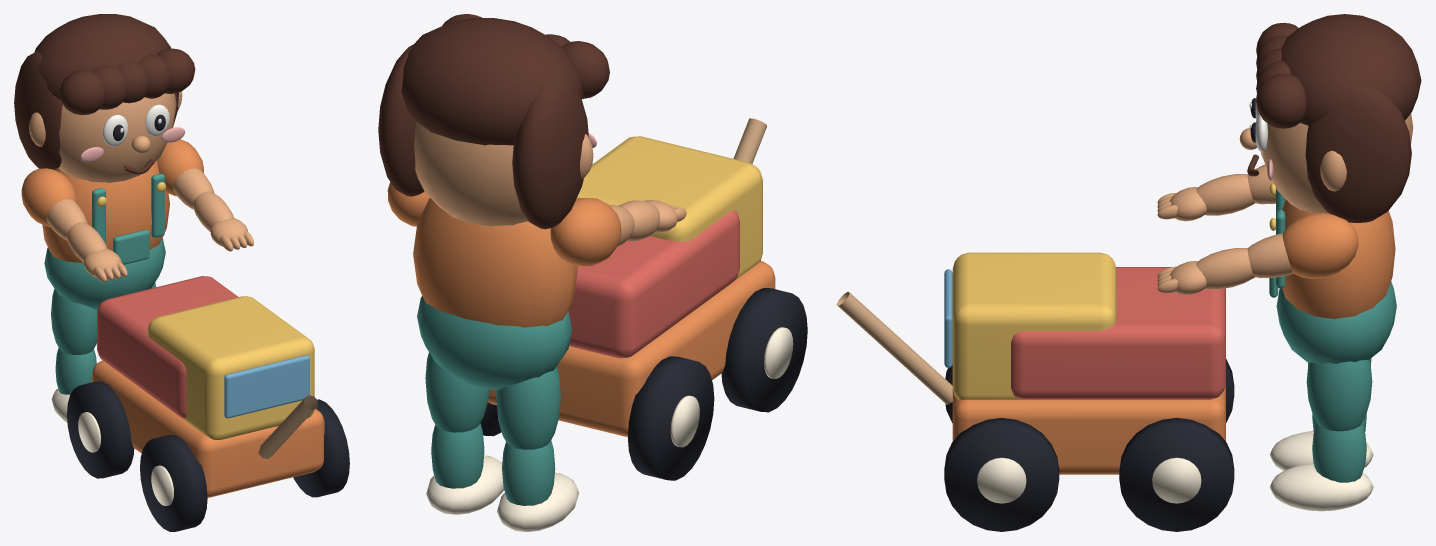
File: ava-push.glb
The picture shows the model from 3 angles, left to right: view 1: azimuth 30°, elevation 25°; view 2: azimuth 150°, elevation 25°; view 3: azimuth 270°, elevation 25°; orthographic projection. The views are drawn at different scales.
Parts seen in each view (by area): view 1: cabin, vehicle body, wagon cargo, hair cap, clay head, soft shirt, rubber wheel, rubber wheel.001, windshield, overalls, bob hair, rubber wheel.002 (+24 smaller); view 2: hair cap, wagon cargo, soft shirt, cabin, vehicle body, overalls, bob hair, clay head, rubber wheel.001, rubber wheel, trouser leg, bob hair.001 (+15 smaller); view 3: wagon cargo, cabin, vehicle body, bob hair.001, hair cap, rubber wheel.002, rubber wheel.003, soft shirt, overalls, trouser leg.001, shirt sleeve.001, clay head (+15 smaller).
Part boxes in pixels (bbox=[...]): cabin: bbox=[147, 296, 314, 439]; vehicle body: bbox=[92, 360, 324, 497]; wagon cargo: bbox=[97, 276, 238, 418]; hair cap: bbox=[34, 14, 171, 100]; clay head: bbox=[58, 93, 176, 182]; soft shirt: bbox=[42, 161, 169, 263]; rubber wheel: bbox=[140, 435, 207, 531]; rubber wheel.001: bbox=[67, 381, 134, 478]; windshield: bbox=[224, 355, 309, 418]; overalls: bbox=[44, 238, 165, 309]; bob hair: bbox=[14, 51, 62, 169]; rubber wheel.002: bbox=[293, 399, 349, 497]; hair cap: bbox=[401, 18, 583, 145]; wagon cargo: bbox=[568, 210, 739, 358]; soft shirt: bbox=[413, 198, 577, 327]; cabin: bbox=[576, 136, 762, 279]; vehicle body: bbox=[488, 261, 775, 436]; overalls: bbox=[417, 296, 572, 389]; bob hair: bbox=[512, 80, 588, 229]; clay head: bbox=[414, 121, 528, 226]; rubber wheel.001: bbox=[627, 356, 714, 480]; rubber wheel: bbox=[721, 288, 807, 412]; trouser leg: bbox=[496, 366, 560, 449]; bob hair.001: bbox=[378, 44, 424, 196]; wagon cargo: bbox=[1011, 267, 1225, 399]; cabin: bbox=[952, 252, 1116, 399]; vehicle body: bbox=[952, 384, 1225, 474]; bob hair.001: bbox=[1305, 86, 1411, 222]; hair cap: bbox=[1281, 14, 1421, 125]; rubber wheel.002: bbox=[944, 418, 1059, 531]; rubber wheel.003: bbox=[1119, 418, 1234, 531]; soft shirt: bbox=[1282, 199, 1395, 319]; overalls: bbox=[1276, 281, 1396, 364]; trouser leg.001: bbox=[1306, 360, 1372, 431]; shirt sleeve.001: bbox=[1282, 213, 1358, 278]; clay head: bbox=[1261, 113, 1413, 213].
Size of the model in its own units: 0.87 by 1.87 by 2.14.
